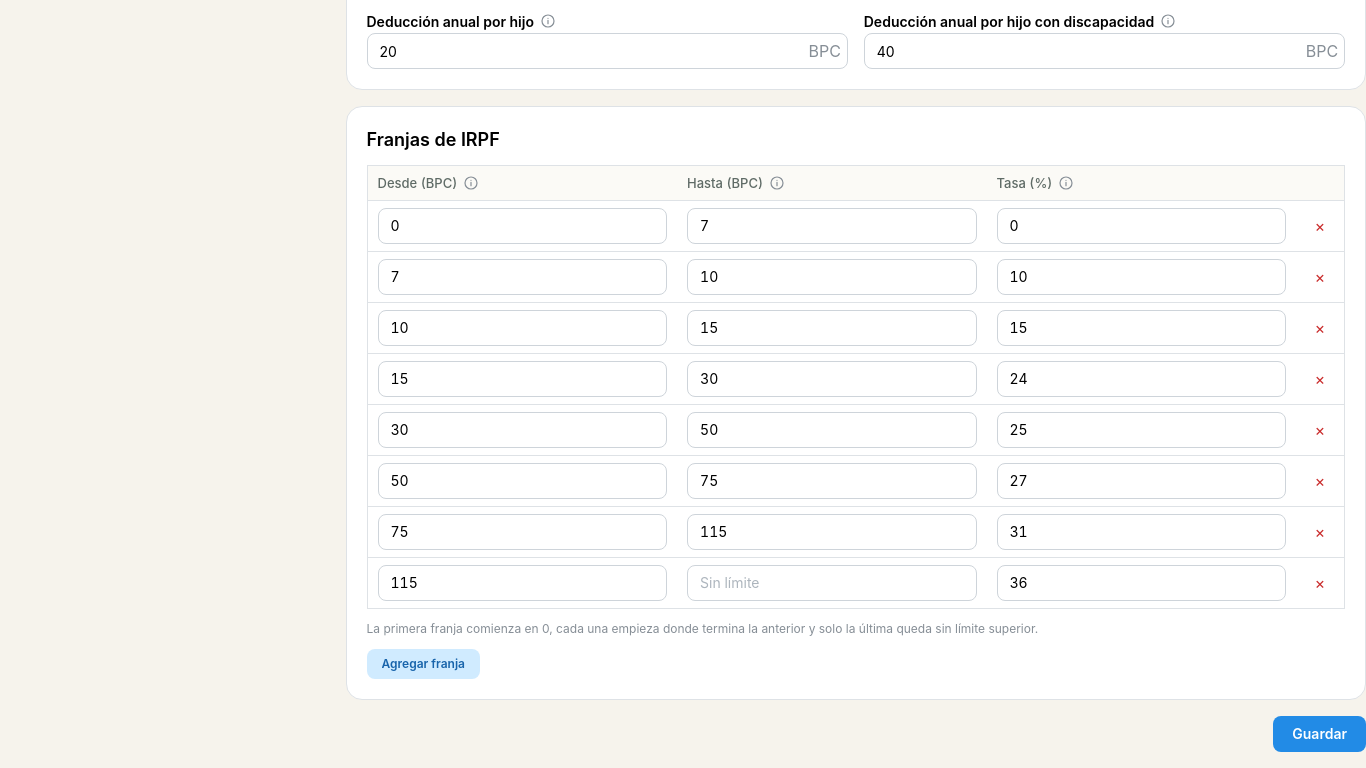
ParametrosPage › shows the franjas validation error from main next to the brackets table
(page scrolled)
Click the button "Guardar" at (1320, 734), box [1273,716,1365,752]
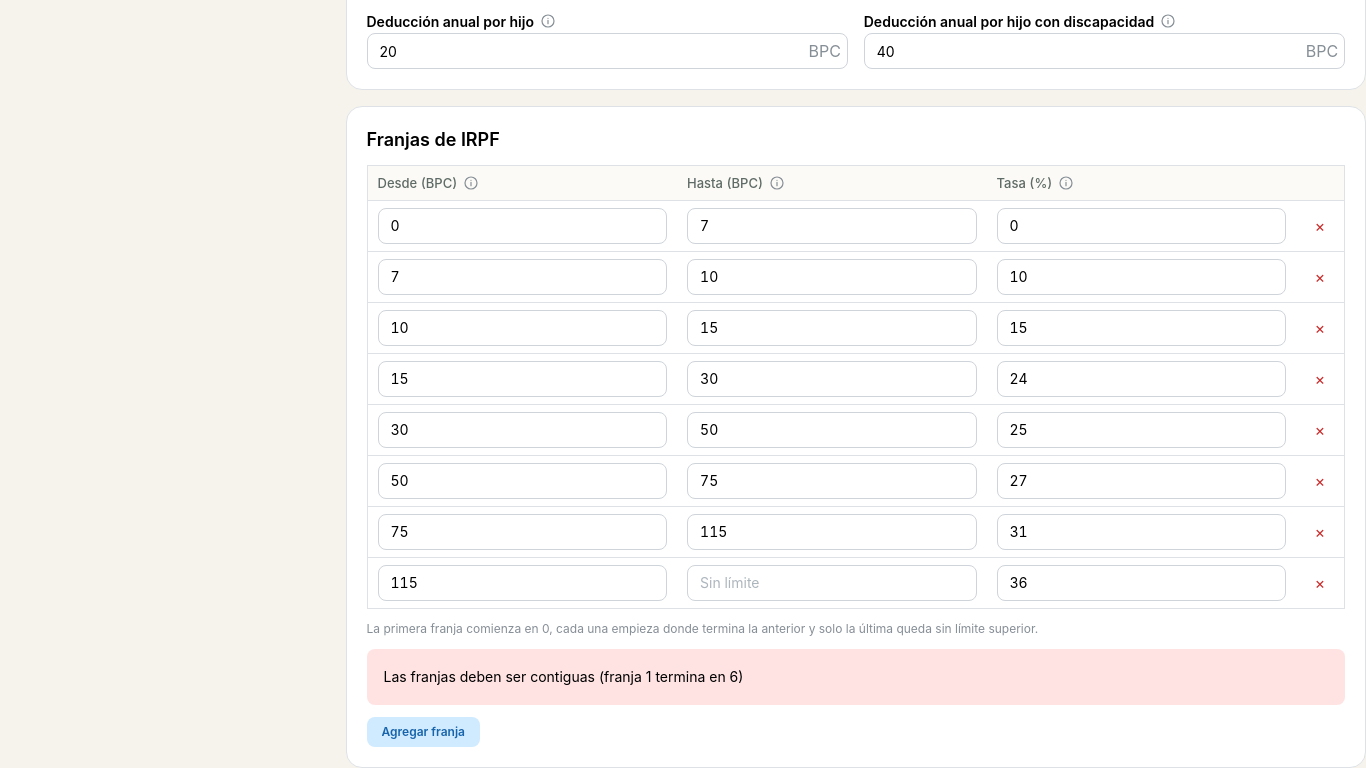
Result: the message reads "Las franjas deben ser contiguas (franja 1 termina en 6)" at [384,668,743,685]
